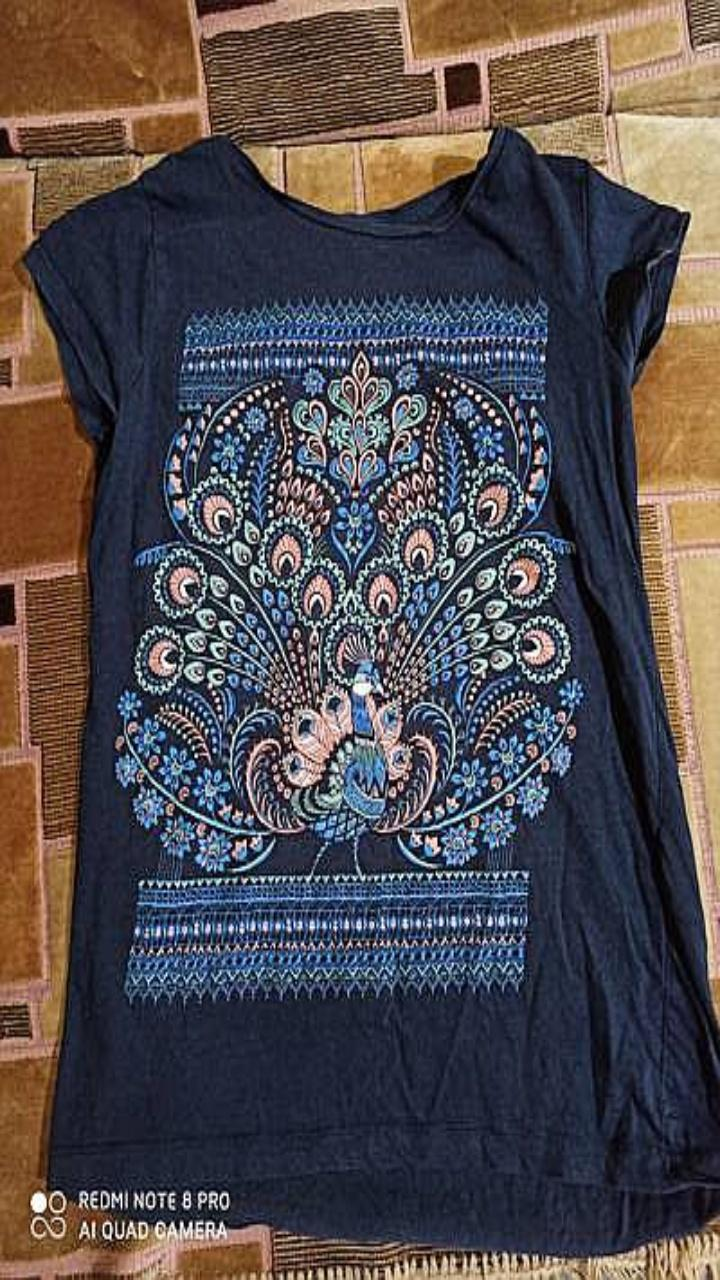T-Shirt: (23, 126, 719, 1255)
